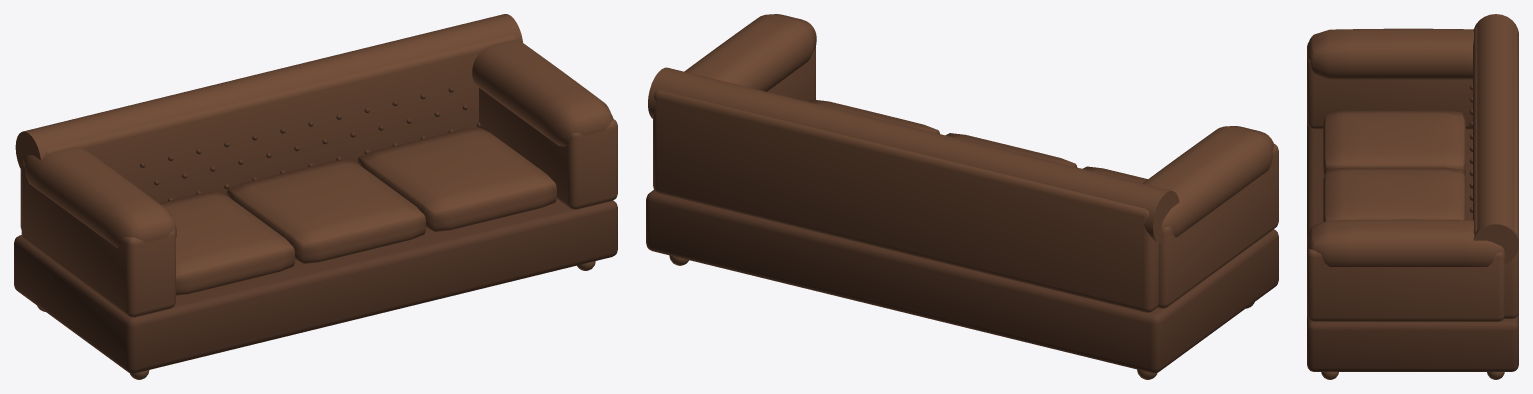
File: sofa_chester.glb
3 renders of one model, left to right at view 1: azimuth 30°, elevation 25°; view 2: azimuth 150°, elevation 25°; view 3: azimuth 270°, elevation 25°, orthographic. The views are drawn at different scales.
Parts seen in each view (by area): view 1: box, box.001, soft.003, soft.004, cyl, box.002, soft.002, soft, soft.001, box.003; view 2: box.001, box, cyl, box.002, soft, soft.001, box.003, soft.004, soft.003; view 3: box, box.003, cyl, soft.002, soft, soft.001, soft.003, box.002, box.001.
Part boxes in pixels (left/top/right/bottom): box: left=14, top=199, right=617, bottom=373; box.001: left=20, top=35, right=517, bottom=229; soft.003: left=226, top=159, right=425, bottom=263; soft.004: left=357, top=127, right=556, bottom=231; cyl: left=15, top=14, right=522, bottom=170; box.002: left=21, top=162, right=175, bottom=317; soft.002: left=159, top=191, right=294, bottom=295; soft: left=23, top=147, right=176, bottom=247; soft.001: left=472, top=40, right=613, bottom=146; box.003: left=479, top=88, right=617, bottom=209; box.001: left=653, top=90, right=1158, bottom=312; box: left=646, top=190, right=1278, bottom=373; cyl: left=648, top=67, right=1179, bottom=243; box.002: left=1157, top=144, right=1278, bottom=308; soft: left=1143, top=126, right=1274, bottom=237; soft.001: left=684, top=14, right=816, bottom=91; box.003: left=767, top=46, right=815, bottom=101; soft.004: left=808, top=99, right=939, bottom=133; soft.003: left=945, top=133, right=1077, bottom=167; box: left=1307, top=123, right=1518, bottom=371; box.003: left=1307, top=249, right=1504, bottom=321; cyl: left=1473, top=14, right=1518, bottom=263; soft.002: left=1323, top=110, right=1465, bottom=175; soft: left=1307, top=28, right=1473, bottom=79; soft.001: left=1307, top=219, right=1504, bottom=266; soft.003: left=1323, top=167, right=1465, bottom=222; box.002: left=1307, top=42, right=1472, bottom=129; box.001: left=1473, top=26, right=1518, bottom=318.
Size of the model in its own units: 222 by 78 by 92.
